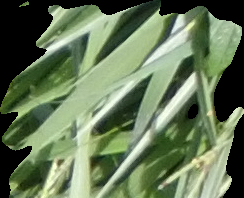grass: (1, 1, 243, 196)
